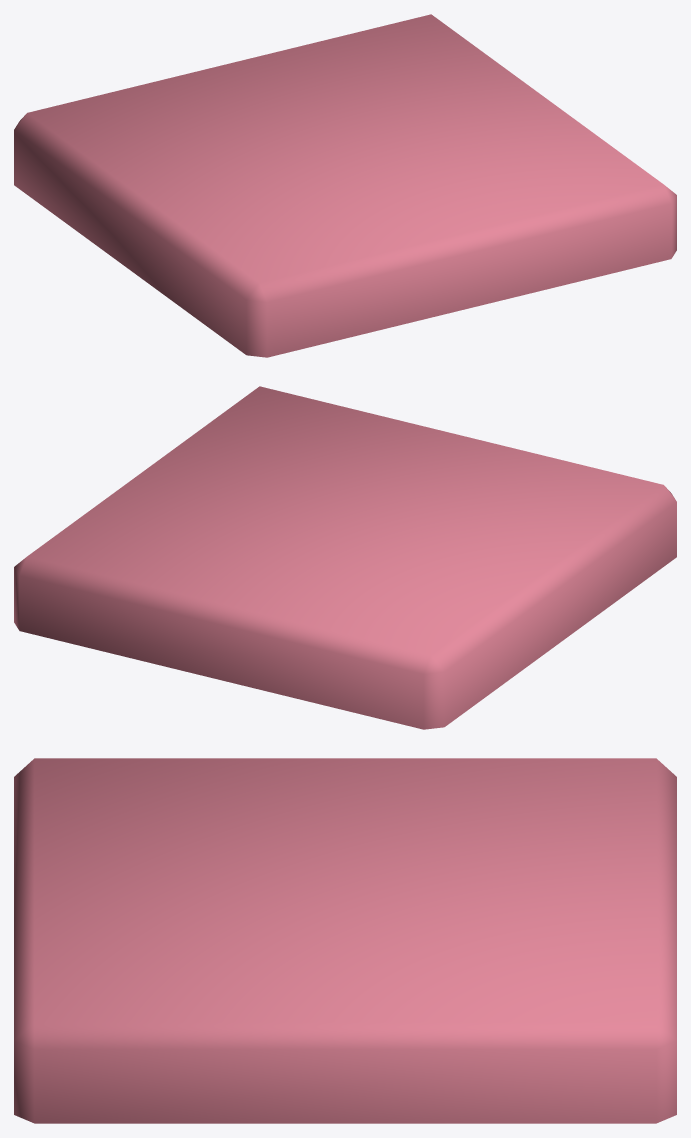
File: SM_Dianzi.fbx
The picture shows the model from 3 angles, top to bottom: view 1: azimuth 30°, elevation 25°; view 2: azimuth 150°, elevation 25°; view 3: azimuth 270°, elevation 25°; orthographic projection. The views are drawn at different scales.
Parts seen in each view (by area): view 1: SM_Dianzi__1_; view 2: SM_Dianzi__1_; view 3: SM_Dianzi__1_.
Part boxes in pixels (<box>): SM_Dianzi__1_: <box>14,14,676,357</box>; SM_Dianzi__1_: <box>14,386,676,729</box>; SM_Dianzi__1_: <box>14,758,676,1123</box>.
Bounding box in the file's own units: 131 × 20.04 × 130.
